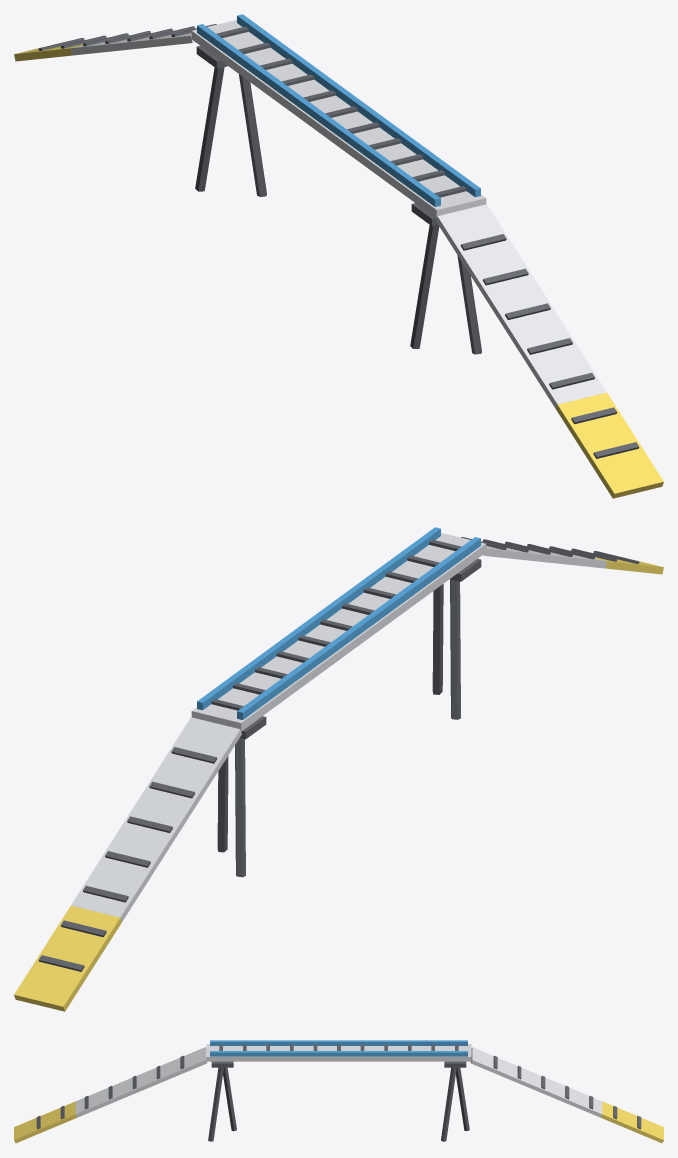
The model's file is dog-agility-and-training-field-dog-walk-a1112e2c__35582.glb.
3 renders of one model, top to bottom at view 1: azimuth 30°, elevation 25°; view 2: azimuth 150°, elevation 25°; view 3: azimuth 270°, elevation 25°, orthographic. The views are drawn at different scales.
Visible parts, largest first — view 1: dog-walk-steel, dog-walk-charcoal, dog-walk-azure, dog-walk-sunflower; view 2: dog-walk-steel, dog-walk-charcoal, dog-walk-azure, dog-walk-sunflower; view 3: dog-walk-steel, dog-walk-charcoal, dog-walk-azure, dog-walk-sunflower.
Part boxes in pixels (bbox=[...]): dog-walk-steel: bbox=[71, 20, 606, 408]; dog-walk-charcoal: bbox=[38, 24, 639, 458]; dog-walk-azure: bbox=[197, 14, 480, 206]; dog-walk-sunflower: bbox=[14, 39, 663, 498]; dog-walk-steel: bbox=[71, 533, 606, 921]; dog-walk-charcoal: bbox=[38, 537, 639, 971]; dog-walk-azure: bbox=[197, 527, 480, 719]; dog-walk-sunflower: bbox=[14, 552, 663, 1011]; dog-walk-steel: bbox=[75, 1044, 602, 1117]; dog-walk-charcoal: bbox=[36, 1044, 641, 1141]; dog-walk-azure: bbox=[210, 1040, 467, 1056]; dog-walk-sunflower: bbox=[14, 1101, 663, 1143].
Size of the model in its own units: 0.4201 by 1.35 by 8.82.
